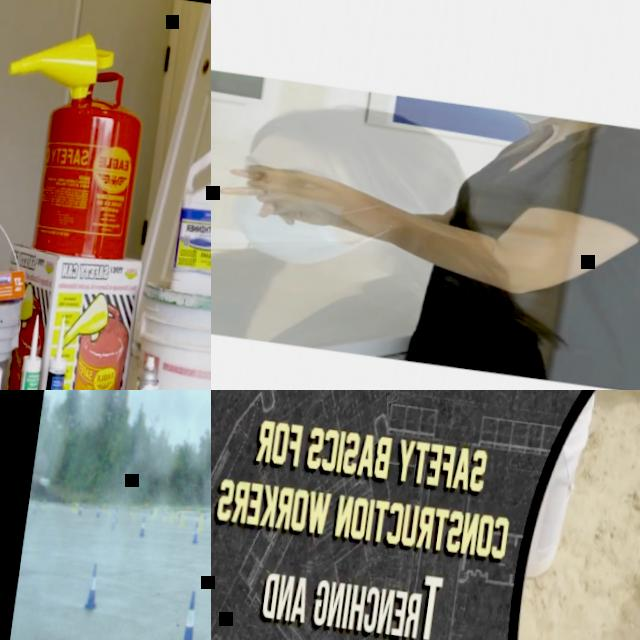Mask: (224, 188, 370, 275), (507, 107, 551, 125)
NO-Hardhat: (256, 95, 448, 177)
NO-Safety Vest: (413, 106, 640, 386), (211, 245, 469, 365)
Person: (211, 87, 544, 370), (405, 99, 640, 390)
Safety Cone: (177, 588, 203, 640), (84, 562, 104, 610), (192, 521, 201, 543), (139, 515, 147, 537), (180, 509, 187, 527), (111, 512, 118, 530), (152, 503, 159, 519), (96, 502, 103, 517), (169, 508, 176, 523), (162, 507, 169, 521), (32, 500, 39, 514), (199, 514, 204, 531), (196, 508, 202, 521), (131, 504, 137, 517), (78, 503, 84, 514), (150, 502, 155, 514), (204, 508, 208, 519), (75, 502, 79, 513), (72, 499, 76, 510)
